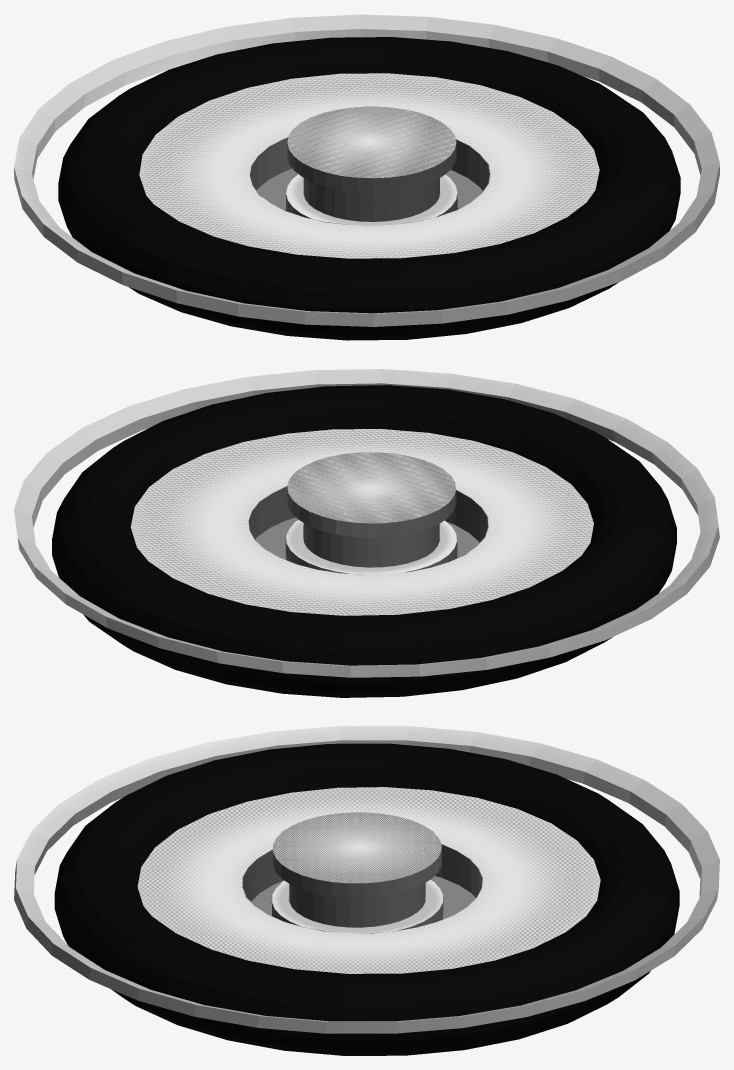
Rendered from DJBooth Draaiding STRAIGHT.fbx.
3 renders of one model, top to bottom at view 1: azimuth 30°, elevation 25°; view 2: azimuth 150°, elevation 25°; view 3: azimuth 270°, elevation 25°, orthographic.
Parts seen in each view (by area): view 1: polySurface735; view 2: polySurface735; view 3: polySurface735.
Part boxes in pixels (x1,y1,x2,y2): polySurface735: [14, 14, 719, 340]; polySurface735: [14, 369, 719, 697]; polySurface735: [14, 726, 719, 1055].
Size of the model in its own units: 5.33 by 0.7543 by 5.33.
